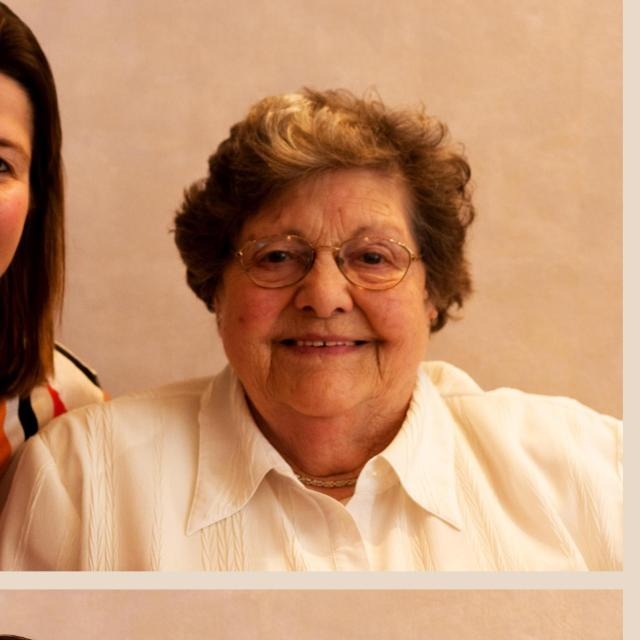no-glass: (251, 249, 402, 274)
